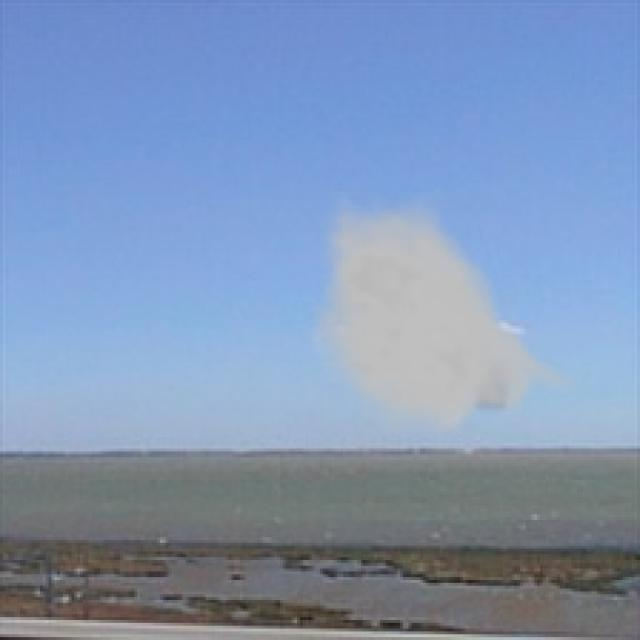Smoke: (308, 188, 586, 442)
